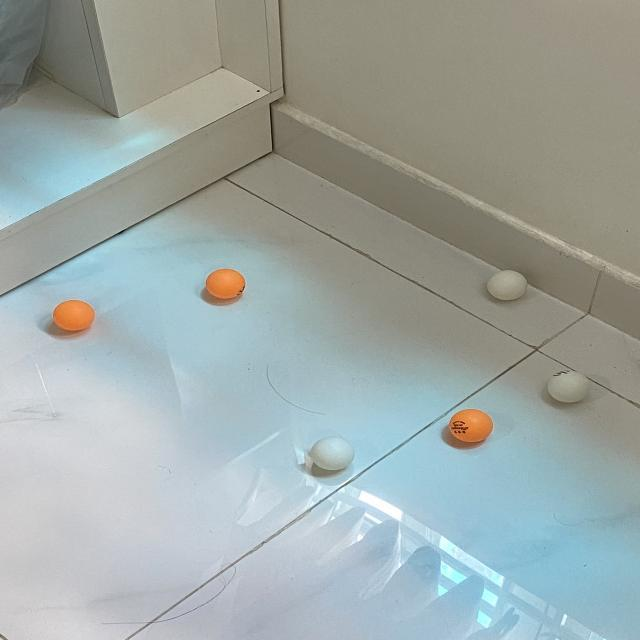ping-pong-ball: (448, 408, 494, 444), (310, 436, 354, 472), (549, 372, 590, 404), (488, 270, 529, 302), (54, 300, 96, 331), (207, 268, 246, 300)
